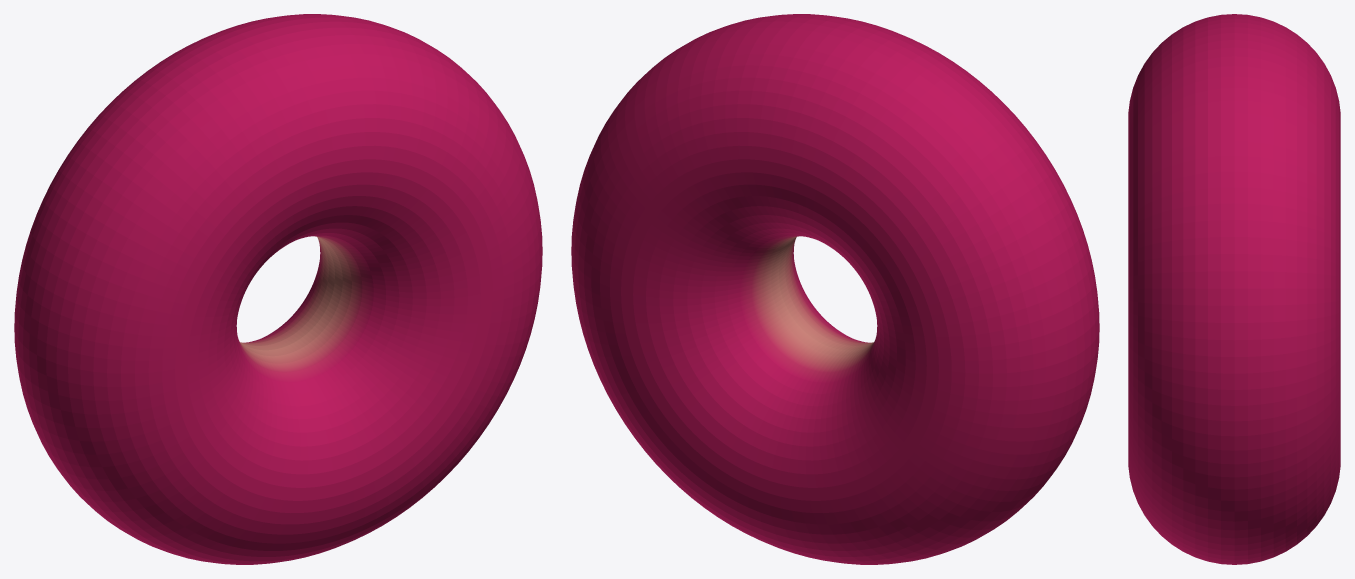
The picture shows the model from 3 angles, left to right: view 1: azimuth 30°, elevation 25°; view 2: azimuth 150°, elevation 25°; view 3: azimuth 270°, elevation 25°; orthographic projection. The views are drawn at different scales.
Visible parts, largest first — view 1: world; view 2: world; view 3: world.
Boxes of the visible parts, box(x1,y1,x2,y2) form: world: box(14, 14, 542, 564); world: box(571, 14, 1099, 564); world: box(1128, 14, 1340, 564).
Size of the model in its own units: 21.73 by 21.73 by 8.38.
